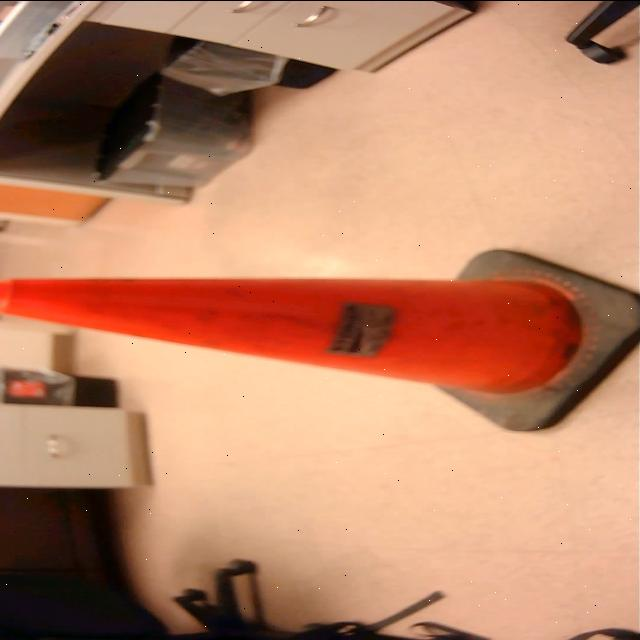traffic cone: (1, 245, 640, 437)
